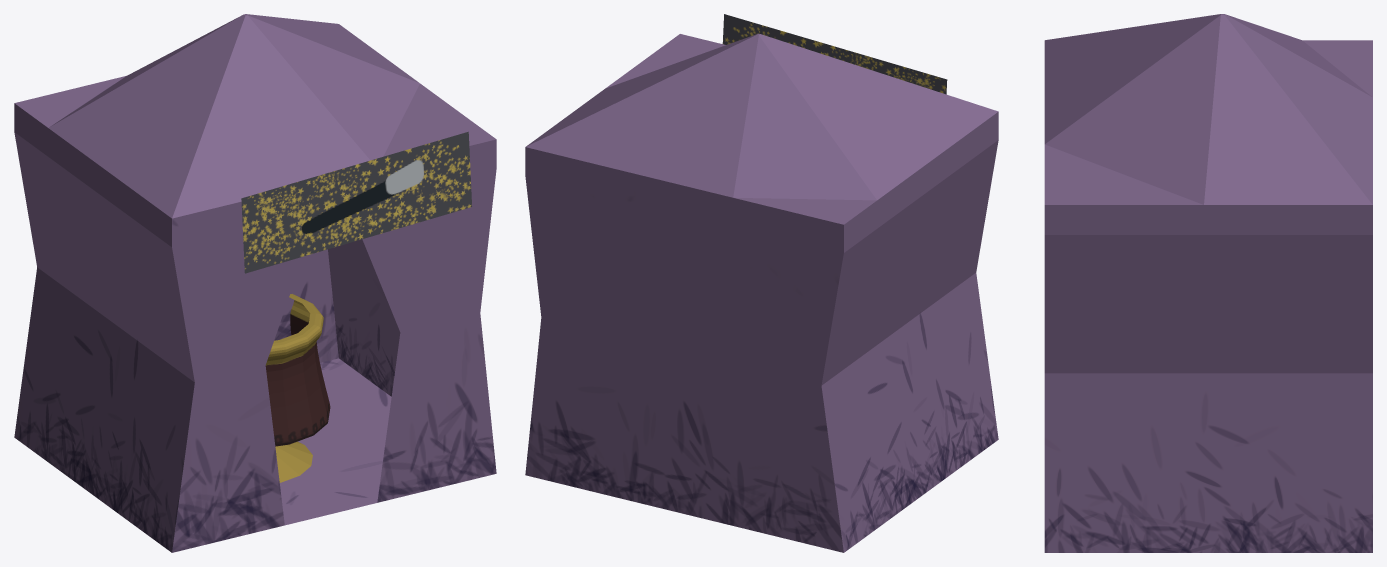
File: MagiaT.fbx
The picture shows the model from 3 angles, left to right: view 1: azimuth 30°, elevation 25°; view 2: azimuth 150°, elevation 25°; view 3: azimuth 270°, elevation 25°; orthographic projection. The views are drawn at different scales.
Parts seen in each view (by area): view 1: tarot_2 (×3); view 2: tarot_2 (×2); view 3: tarot_2.
Boxes of the visible parts, <box> form: tarot_2 (×3): <box>14,14,496,552</box>; tarot_2 (×2): <box>525,14,998,552</box>; tarot_2: <box>1044,14,1372,552</box>.
Bounding box in the file's own units: 107 × 137 × 94.76.
4 materials, 4 textured.
